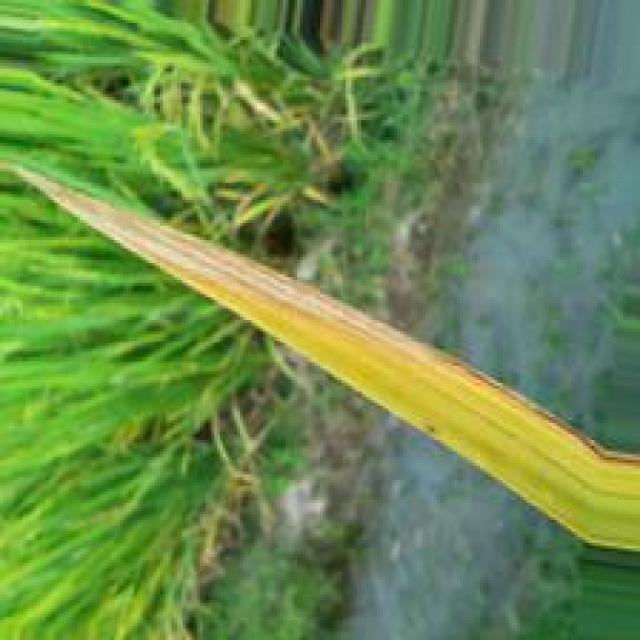Bacterial_Leaf_Blight: (4, 164, 640, 480)
